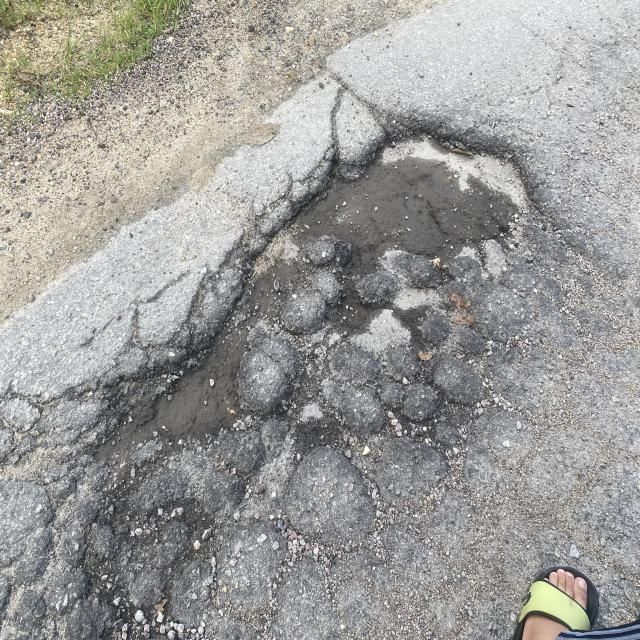Pothole: (76, 91, 614, 455)
